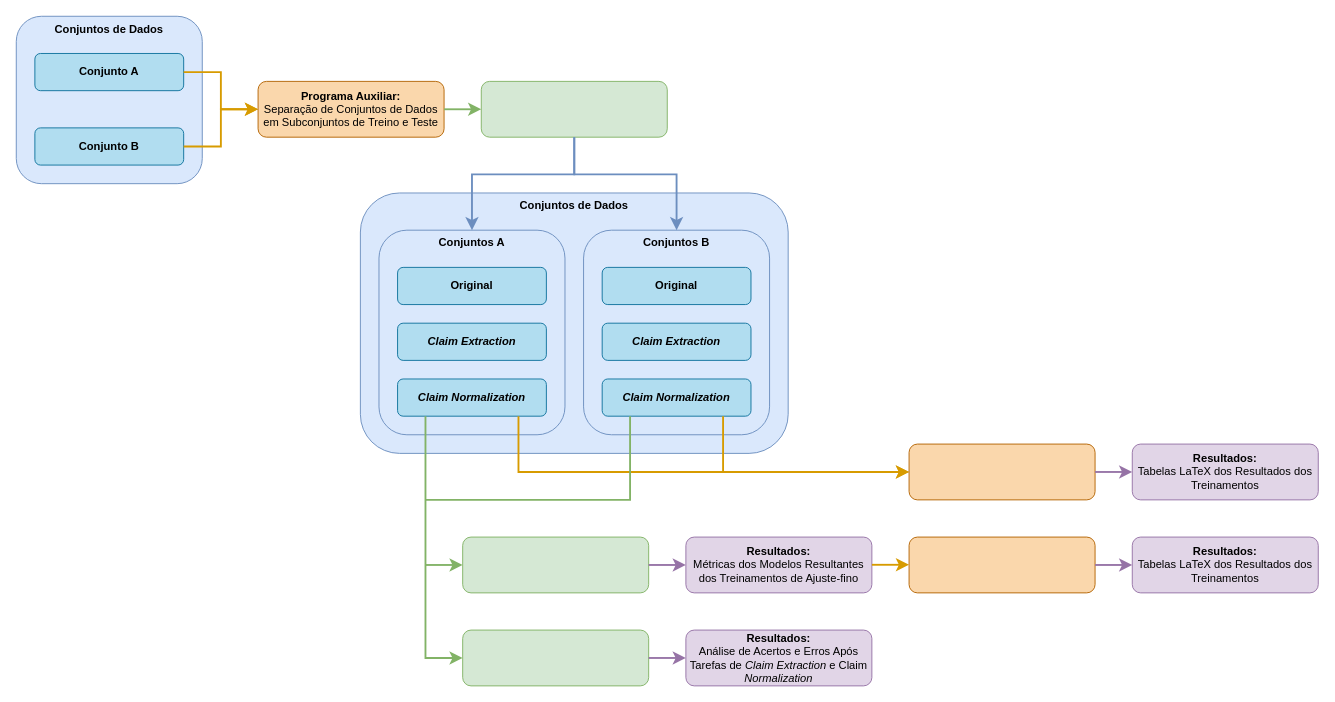
This 1335x702 diagram has some shape labels left out. Here are the shapes that lost their labels. From the top down, the box of each, then its label:
(480, 80, 667, 137): Módulo 1: Geração de Conjuntos de Dados
(908, 443, 1095, 500): Programa Auxiliar: Cálculo de Métricas dos Conjuntos de Dados
(462, 536, 649, 593): Módulo 2: Ajuste-fino de Transformers para Classificação de Fatos
(908, 536, 1095, 593): Programa Auxiliar: Geração de Tabelas LaTeX com Resultados Organizados
(462, 629, 649, 686): Módulo 3: Comparação de Classificações
